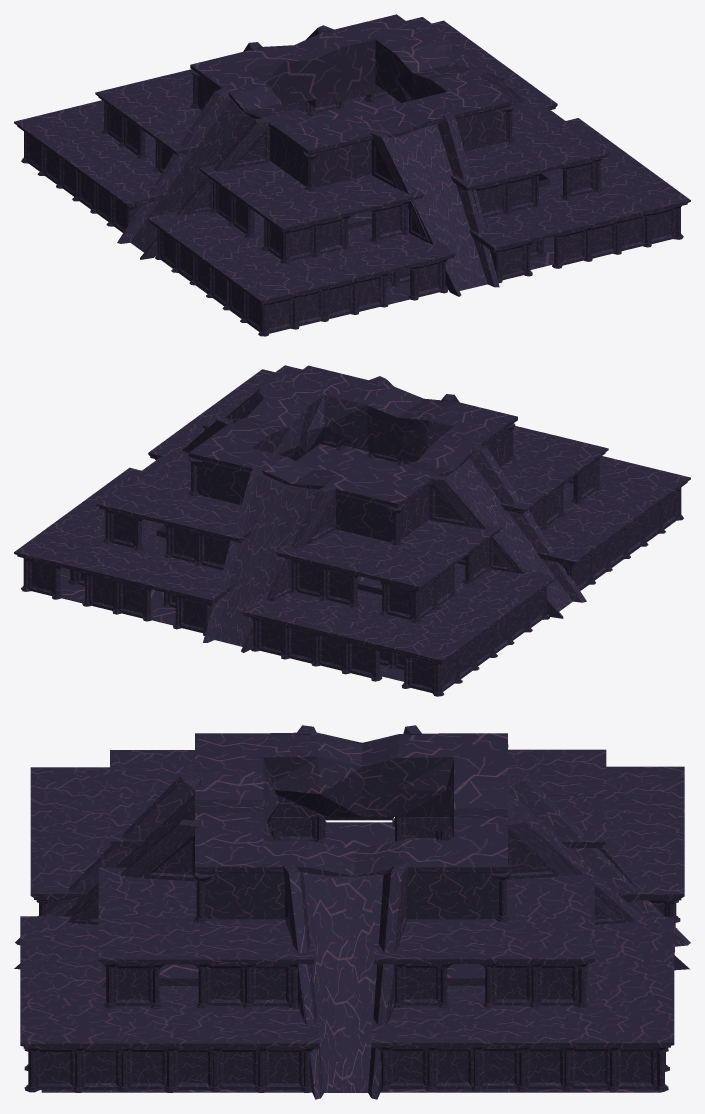
File: TEMPLE.obj
3 views of the same model, one above another, from view 1: azimuth 30°, elevation 25°; view 2: azimuth 150°, elevation 25°; view 3: azimuth 270°, elevation 25° (orthographic). The views are drawn at different scales.
Visible parts, largest first — view 1: Temple; view 2: Temple; view 3: Temple.
Part boxes in pixels (x1,y1,x2,y2): Temple: (14,14,690,336); Temple: (14,365,690,696); Temple: (14,725,690,1099).
Bounding box in the file's own units: 102 × 26.26 × 102.
1 material, 1 textured.
